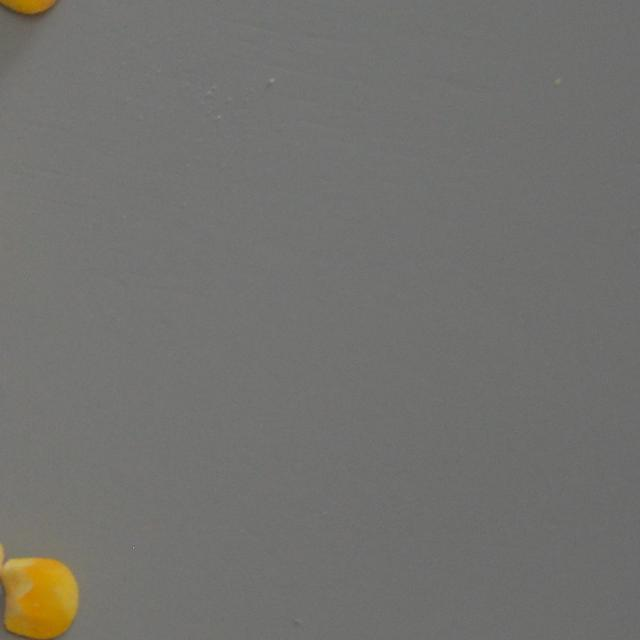no_canjicado: (1, 555, 80, 640)
